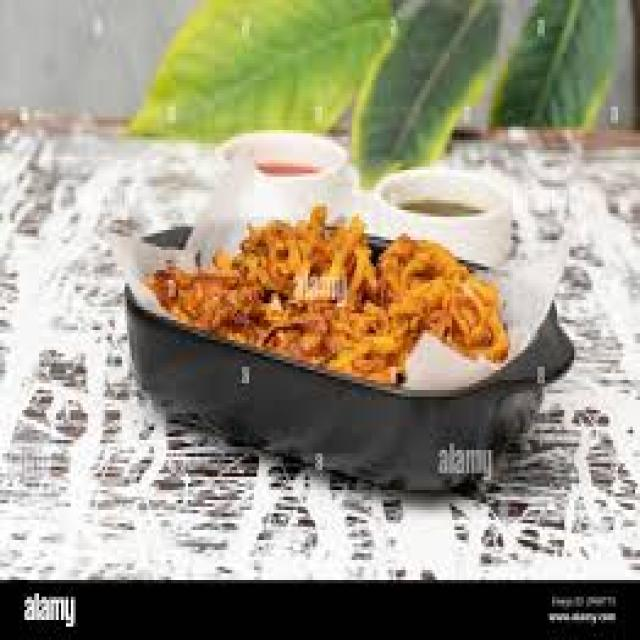BAJI: (139, 207, 513, 380)
